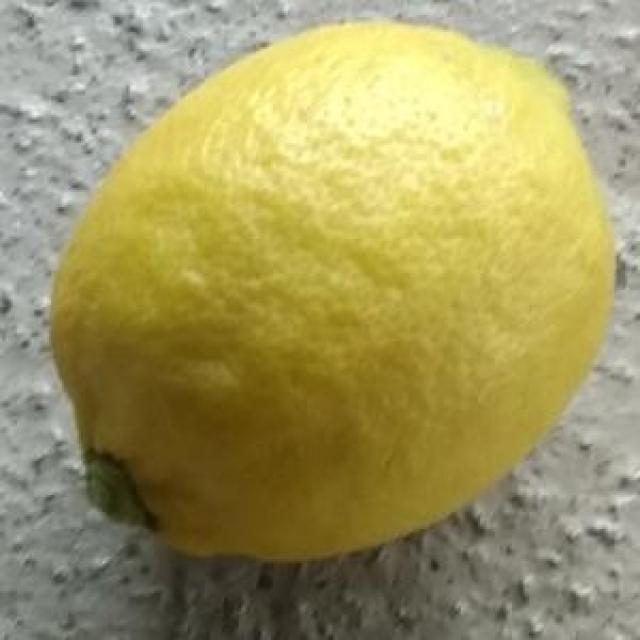lemon: (56, 22, 619, 556)
